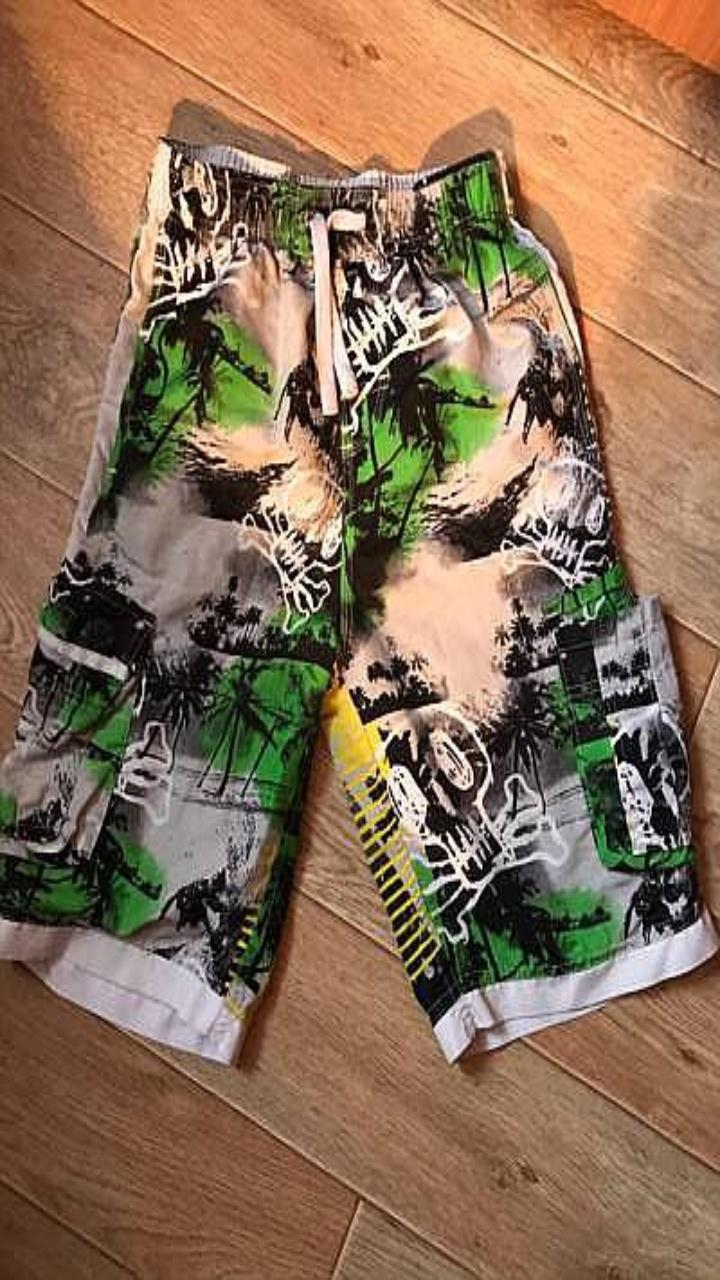Shorts: (0, 141, 719, 1060)
